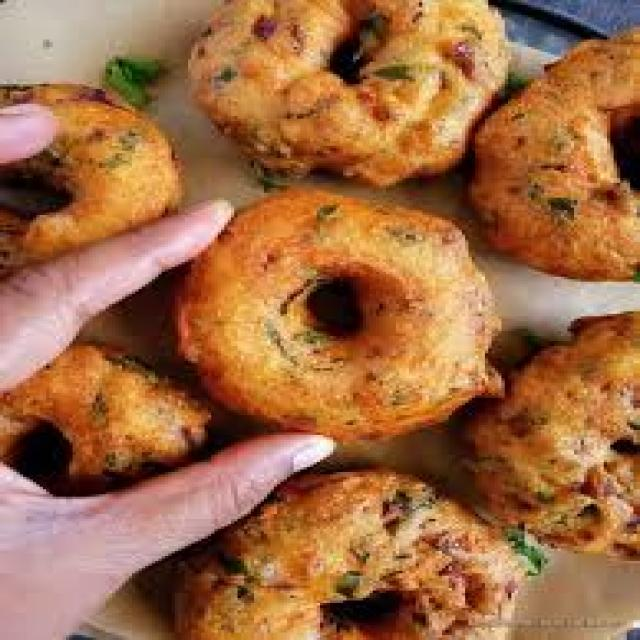MEDU VADA: (178, 185, 498, 437), (175, 469, 525, 638), (191, 0, 508, 183), (468, 30, 637, 277), (468, 311, 637, 546), (0, 89, 181, 272)
